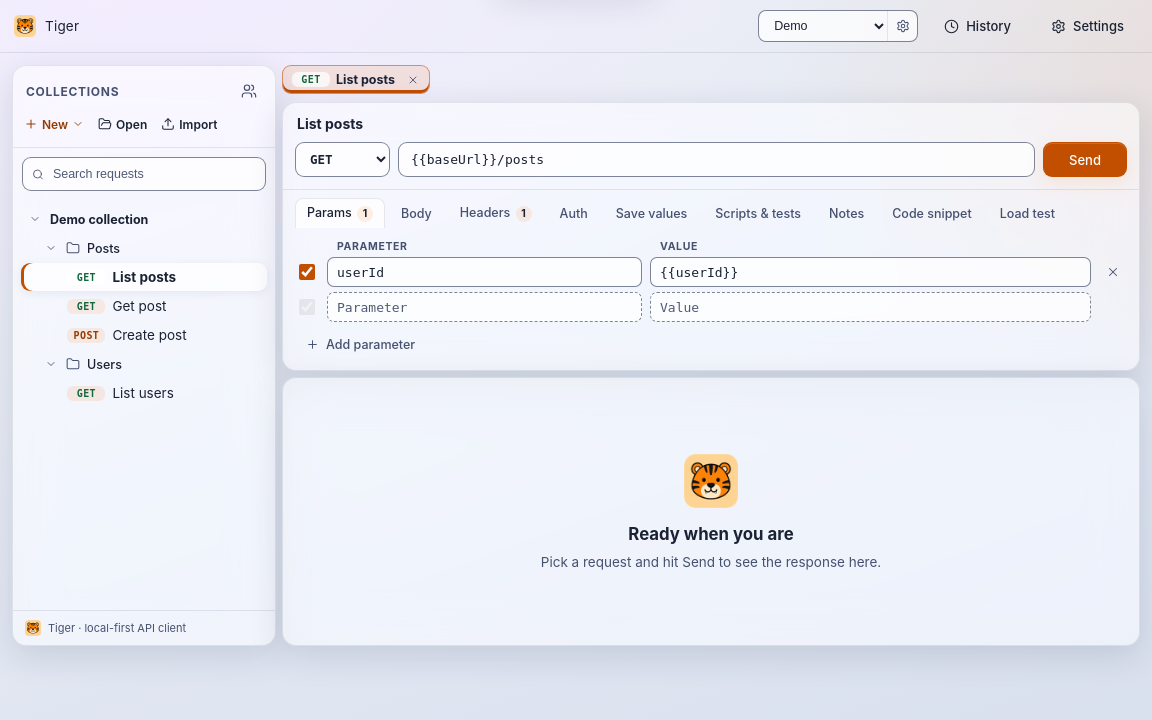
Test: sidebar New menu › offers request, folder, collection and environment with registry names
Step 1. Click the button "New" → (54, 124), box [18, 110, 90, 138]
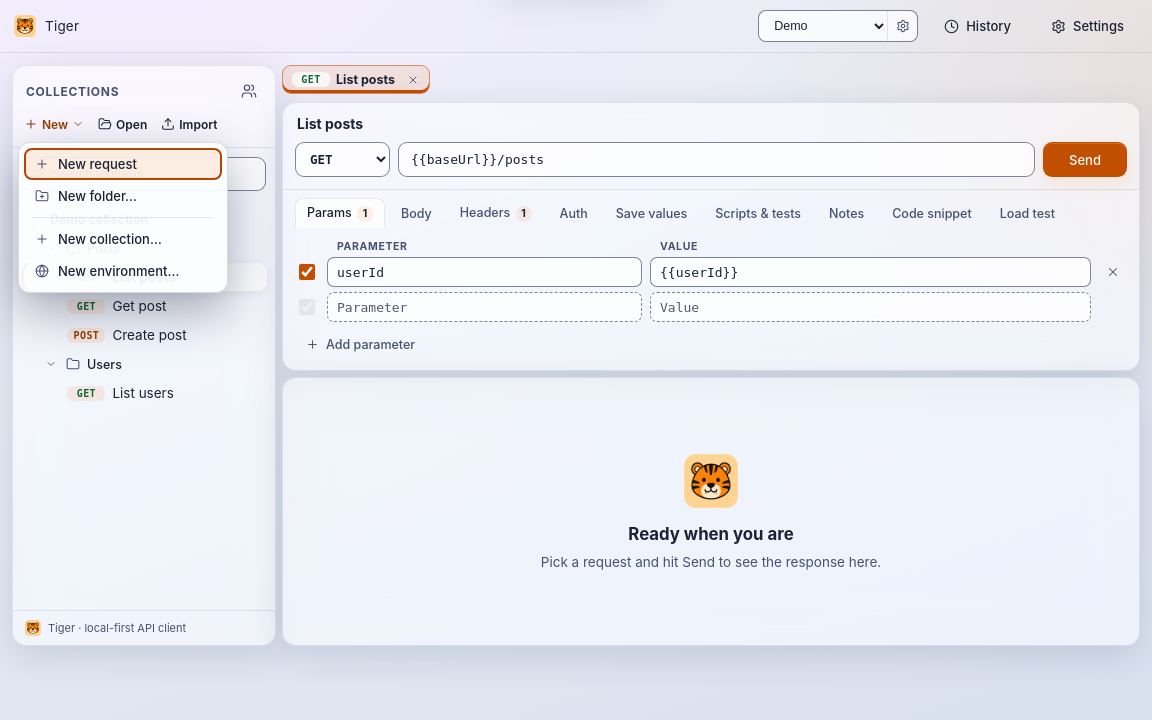
Expected: the menu items read "New request", "New folder…", "New collection…", "New environment…", in this order, [24, 148, 222, 180]; [24, 180, 222, 212]; [24, 223, 222, 255]; [24, 255, 222, 287]
